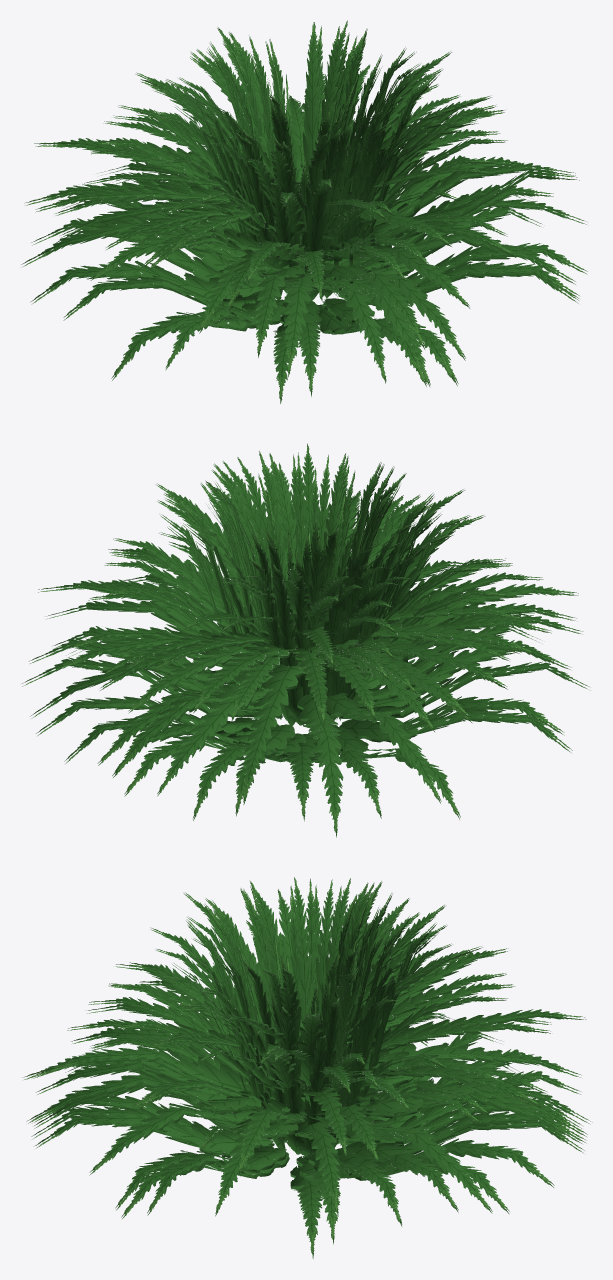
Rendered from bigfern.fbx.
3 views of the same model, one above another, from view 1: azimuth 30°, elevation 25°; view 2: azimuth 150°, elevation 25°; view 3: azimuth 270°, elevation 25° (orthographic).
Parts seen in each view (by area): view 1: plants3.002; view 2: plants3.002; view 3: plants3.002.
Part boxes in pixels (x1,y1,x2,y2): plants3.002: (21,20,587,403); plants3.002: (22,443,589,837); plants3.002: (23,877,592,1258).
Bounding box in the file's own units: 1512 × 700 × 1501.
